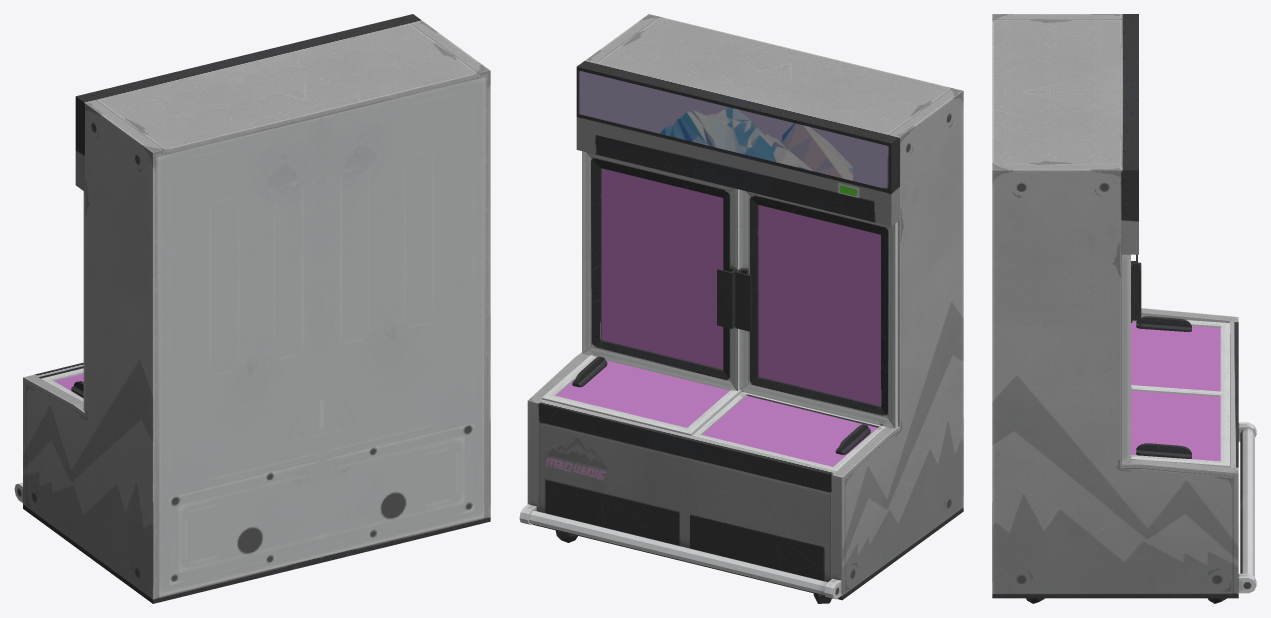
Rendered from P_Freezer_002_S1_M04.obj.
3 views of the same model, side by side, from view 1: azimuth 30°, elevation 25°; view 2: azimuth 150°, elevation 25°; view 3: azimuth 270°, elevation 25° (orthographic). The views are drawn at different scales.
Bounding box in the file's own units: 2.1 × 2.79 × 1.5.
2 materials, 2 textured.
